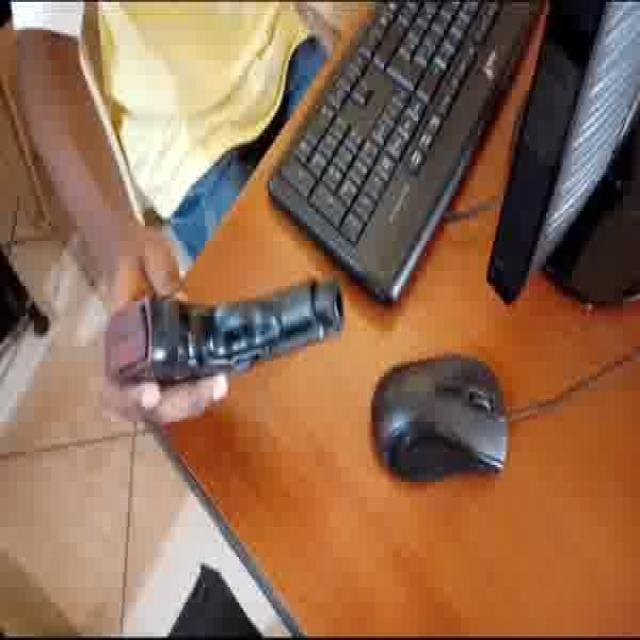weapon: (104, 276, 344, 389)
